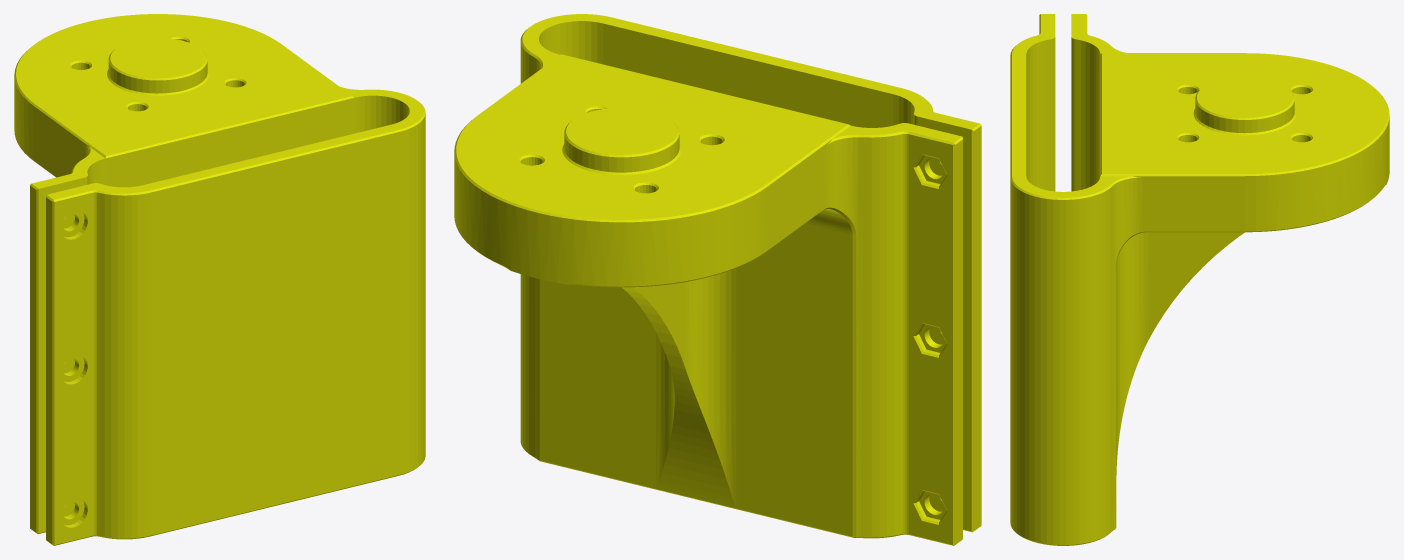
Rendered from k4a_mount.dae.
The picture shows the model from 3 angles, left to right: view 1: azimuth 30°, elevation 25°; view 2: azimuth 150°, elevation 25°; view 3: azimuth 270°, elevation 25°; orthographic projection. The views are drawn at different scales.
Visible parts, largest first — view 1: node; view 2: node; view 3: node.
Boxes of the visible parts, left/top/right/bottom form: node: left=14, top=14, right=425, bottom=545; node: left=454, top=14, right=981, bottom=545; node: left=1010, top=14, right=1389, bottom=545.
Bounding box in the file's own units: 136 × 118 × 125.
